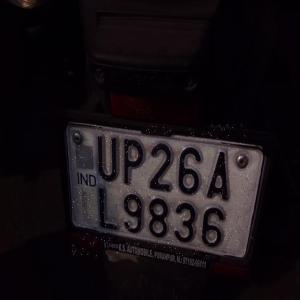Plate: (72, 124, 253, 256)
